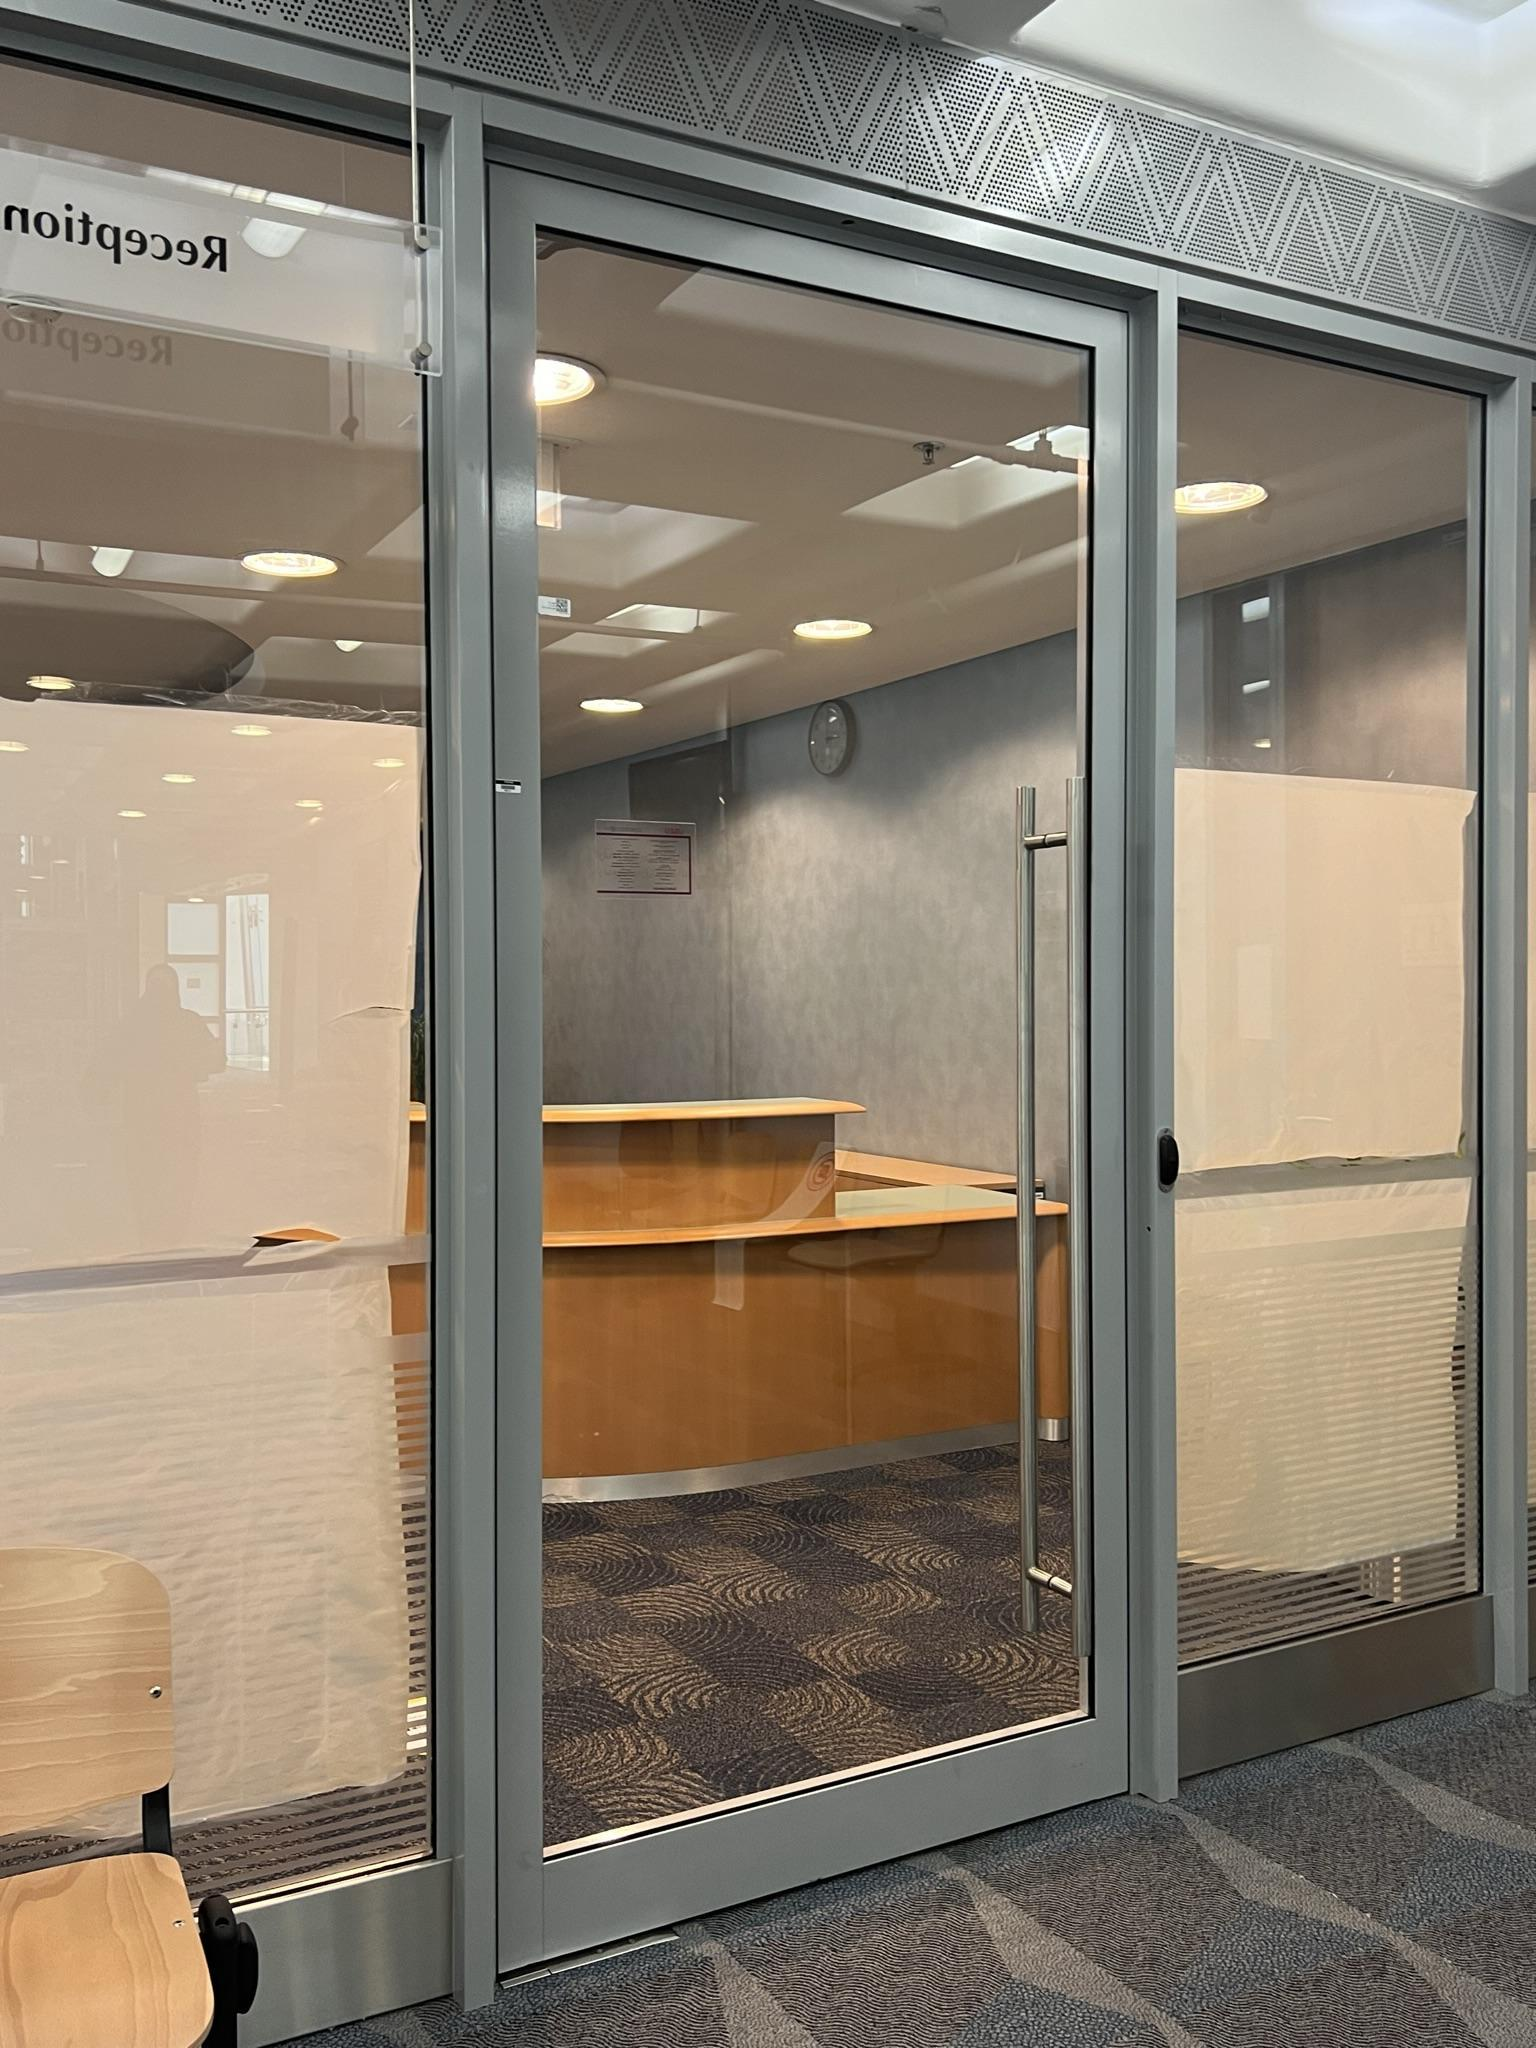door: (459, 261, 1129, 1842)
handle: (1055, 786, 1104, 1734)
